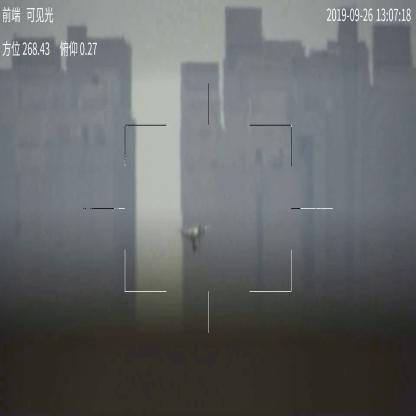uav: (176, 222, 212, 253)
